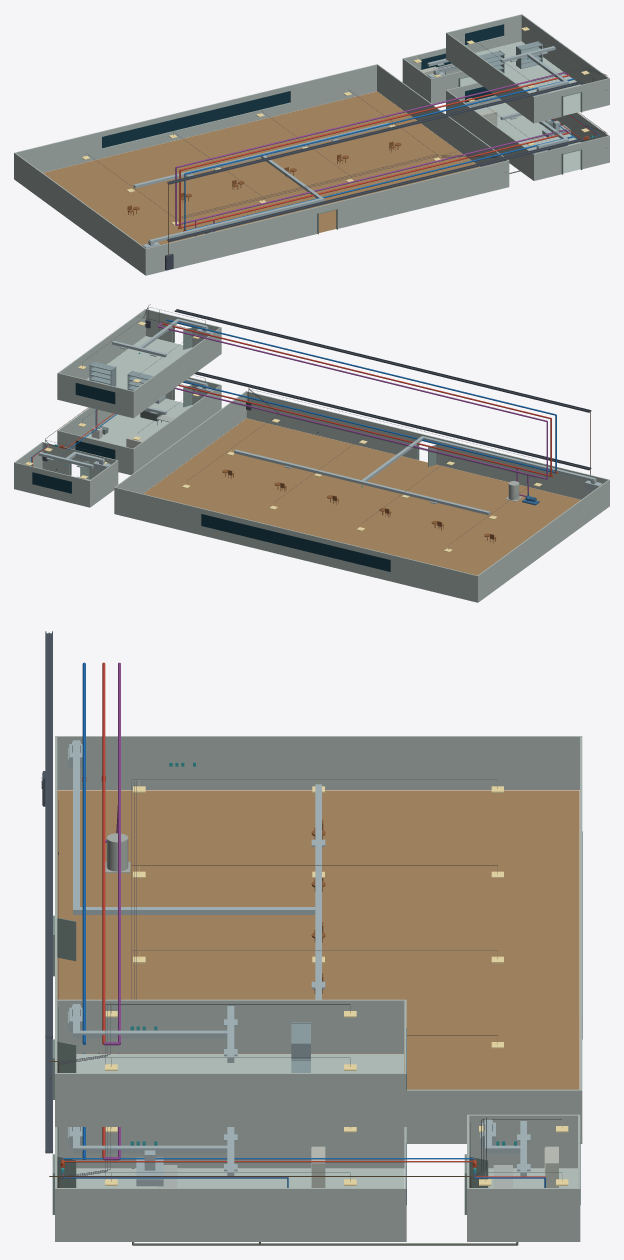
The model's file is DINING_E.glb.
3 views of the same model, one above another, from view 1: azimuth 30°, elevation 25°; view 2: azimuth 150°, elevation 25°; view 3: azimuth 270°, elevation 25° (orthographic). The views are drawn at different scales.
Visible parts, largest first — view 1: V4_DINING_E_R01_FLOOR_ZONE, V4_DINING_E_R01_WALLS, V4_DINING_E_R04_WALLS, V4_DINING_E_R02_WALLS, V4_DINING_E_R01_ROOM_GLAZING, V4_DINING_E_R01_AHU, V4_DINING_E_MAIN_HOT, V4_DINING_E_MAIN_HOT_RETURN, V4_DINING_E_R04_FLOOR_ZONE, V4_DINING_E_R03_WALLS, V4_DINING_E_R02_FLOOR_ZONE, V4_DINING_E_MAIN_COLD (+6 smaller); view 2: V4_DINING_E_R01_FLOOR_ZONE, V4_DINING_E_R01_WALLS, V4_DINING_E_R04_WALLS, V4_DINING_E_R02_WALLS, V4_DINING_E_R03_WALLS, V4_DINING_E_R01_AHU, V4_DINING_E_R01_ROOM_GLAZING, V4_DINING_E_R04_FLOOR_ZONE, V4_DINING_E_MAIN_HOT_RETURN, V4_DINING_E_MAIN_HOT, V4_DINING_E_MAIN_COLD, V4_DINING_E_R02_FLOOR_ZONE (+8 smaller); view 3: V4_DINING_E_R01_FLOOR_ZONE, V4_DINING_E_R01_WALLS, V4_DINING_E_R04_WALLS, V4_DINING_E_R02_WALLS, V4_DINING_E_R03_WALLS, V4_DINING_E_R04_FLOOR_ZONE, V4_DINING_E_R01_AHU, V4_DINING_E_R02_FLOOR_ZONE, V4_DINING_E_TRAY1, V4_DINING_E_R04_AHU, V4_DINING_E_R02_AHU, V4_DINING_E_MAIN_COLD (+12 smaller).
Part boxes in pixels (x1,y1,x2,y2): V4_DINING_E_R01_FLOOR_ZONE: (43,91,479,245); V4_DINING_E_R01_WALLS: (14,64,509,275); V4_DINING_E_R04_WALLS: (446,14,609,123); V4_DINING_E_R02_WALLS: (446,82,609,180); V4_DINING_E_R01_ROOM_GLAZING: (102,91,290,148); V4_DINING_E_R01_AHU: (133,122,389,248); V4_DINING_E_MAIN_HOT: (179,74,569,228); V4_DINING_E_MAIN_HOT_RETURN: (175,72,569,225); V4_DINING_E_R04_FLOOR_ZONE: (475,41,580,115); V4_DINING_E_R03_WALLS: (402,48,468,103); V4_DINING_E_R02_FLOOR_ZONE: (475,103,580,173); V4_DINING_E_MAIN_COLD: (184,78,574,230); V4_DINING_E_R01_FLOOR_ZONE: (143,418,580,575); V4_DINING_E_R01_WALLS: (114,391,609,602); V4_DINING_E_R04_WALLS: (57,309,221,418); V4_DINING_E_R02_WALLS: (57,377,221,474); V4_DINING_E_R03_WALLS: (14,442,118,507); V4_DINING_E_R01_AHU: (234,436,602,515); V4_DINING_E_R01_ROOM_GLAZING: (201,514,390,571); V4_DINING_E_R04_FLOOR_ZONE: (87,336,192,389); V4_DINING_E_MAIN_HOT_RETURN: (157,323,547,479); V4_DINING_E_MAIN_HOT: (162,323,551,476); V4_DINING_E_MAIN_COLD: (166,319,556,473); V4_DINING_E_R02_FLOOR_ZONE: (87,398,192,446); V4_DINING_E_R01_FLOOR_ZONE: (57,790,579,1089); V4_DINING_E_R01_WALLS: (55,736,582,1143); V4_DINING_E_R04_WALLS: (55,999,406,1126); V4_DINING_E_R02_WALLS: (55,1127,406,1241); V4_DINING_E_R03_WALLS: (467,1114,580,1241); V4_DINING_E_R04_FLOOR_ZONE: (76,1054,403,1072); V4_DINING_E_R01_AHU: (67,740,325,999); V4_DINING_E_R02_FLOOR_ZONE: (76,1169,403,1187); V4_DINING_E_TRAY1: (45,631,52,1038); V4_DINING_E_R04_AHU: (67,1004,237,1062); V4_DINING_E_R02_AHU: (67,1127,237,1175); V4_DINING_E_MAIN_COLD: (82,662,85,1159).
Size of the model in its own units: 54.9 by 10.76 by 27.73.
